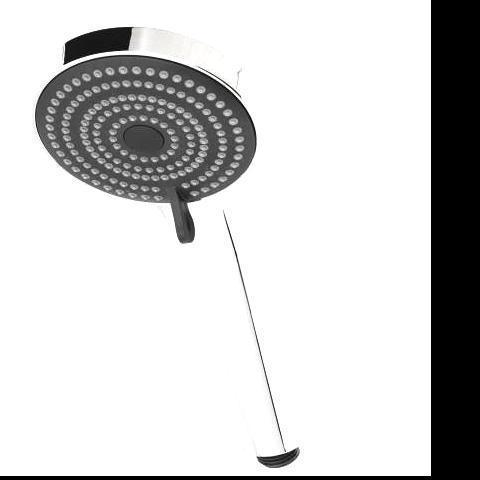Ducha: (22, 32, 351, 468)
